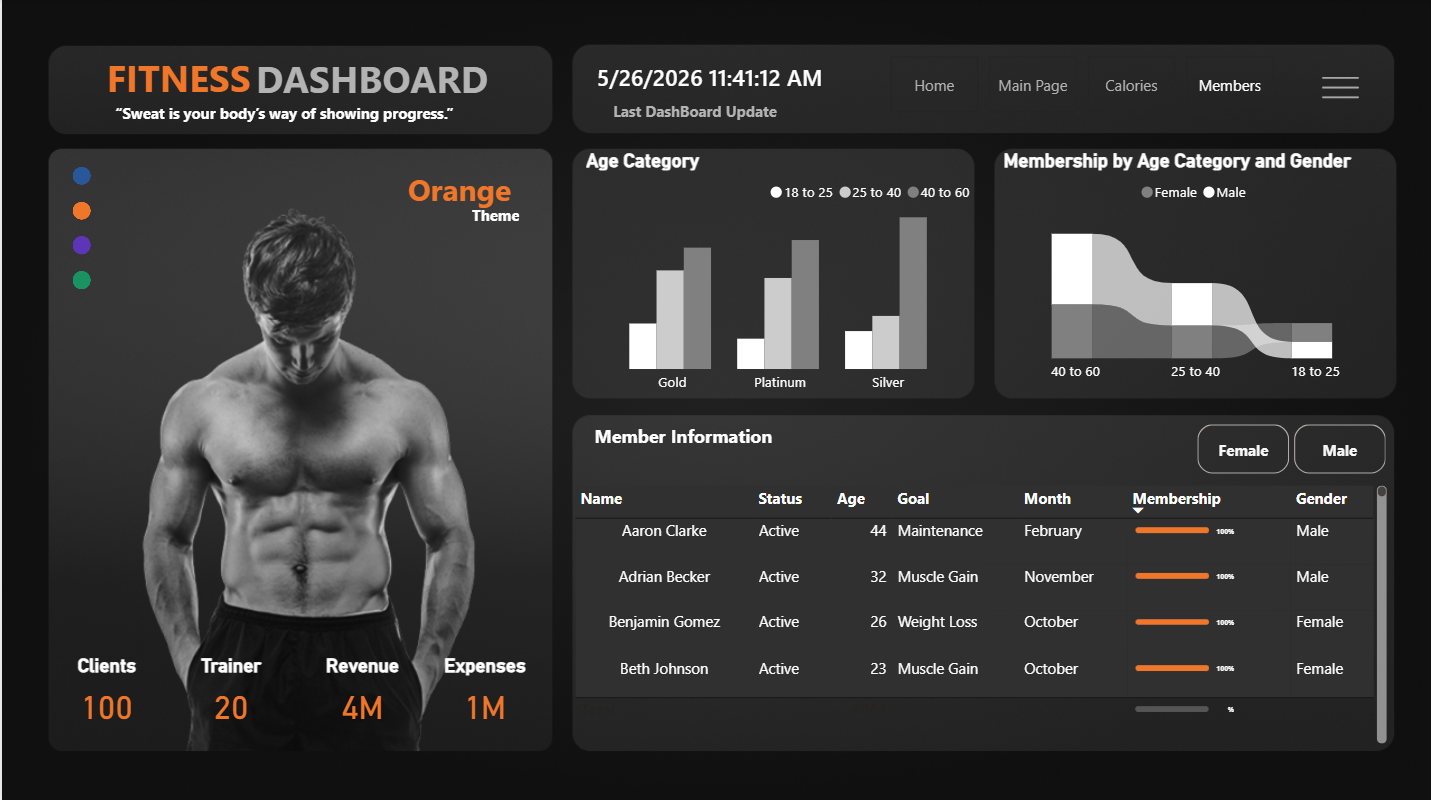

What the dashboard file says about the page in this screenshot:
{"tool":"powerbi","page":{"name":"Members","canvas":[1280,720],"ordinal":3},"visuals":[{"type":"tableEx","fields":{"Values":["Users.UserName","Users.Status","Sum(Users.Age)","Users.Goal","Users.JoinDate.Variation.Date Hierarchy.Month","_Measures.SVG_BarChart1","Users.Gender"]},"box":[506,429.6,736.6,240.3],"z":0},{"type":"shape","box":[81.3,43.7,152.9,43.7],"z":1000},{"type":"shape","box":[214,44.2,232.6,44.2],"z":2000},{"type":"shape","box":[90.6,87.8,323.8,27.4],"z":3000},{"type":"image","box":[1161.6,59.3,70.9,41.9],"z":4000},{"type":"shape","box":[523.3,88.4,190.7,23.3],"z":5000},{"type":"pageNavigator","box":[794.2,51.2,345.3,50],"z":6000},{"type":"shape","box":[517,377.4,183.2,23.1],"z":7000},{"type":"advancedSlicerVisual","fields":{"Values":["Users.Gender"]},"box":[1063,375,179.6,54.6],"z":8000},{"type":"clusteredColumnChart","title":"Age Category","fields":{"Category":["Users.Membership"],"Y":["_Measures.Users_Count"],"Series":["Users.Age Category"]},"box":[517.4,133.7,357,226.7],"z":9000},{"type":"ribbonChart","title":"Membership by Age Category and Gender","fields":{"Category":["Users.Age Category"],"Series":["Users.Gender"],"Y":["CountNonNull(Users.Membership)"]},"box":[889.5,133.5,353.1,217.2],"z":10000},{"type":"card","title":"Clients","fields":{"Values":["_Measures.Users_Count"]},"box":[52.1,584.6,82.3,72.7],"z":11000},{"type":"card","title":"Trainer","fields":{"Values":["Count(Users.Trainer Name)"]},"box":[157.8,584.6,94.7,72.7],"z":12000},{"type":"card","title":"Revenue","fields":{"Values":["_Measures.Revenue"]},"box":[274.4,584.6,94.7,72.7],"z":13000},{"type":"card","title":"Expenses","fields":{"Values":["_Measures.Expenses"]},"box":[384.2,584.6,94.7,72.7],"z":14000},{"type":"advancedSlicerVisual","fields":{"Values":["ColorCodes.Icon"]},"box":[52.2,142,37.6,129.8],"z":15000},{"type":"shape","box":[338.6,145.6,140.8,48.5],"z":16000},{"type":"shape","box":[384.7,178.4,111.6,29.1],"z":17000},{"type":"cardVisual","fields":{"Data":["_Measures.Current Date"]},"box":[502.3,0,291.9,137.2],"z":18000}]}

Visuals, with their boxes in screenshot pixels (x1, y1, x2, y2), scaled from the page's 1280x720 canvas onto the 1431x800 screenshot:
tableEx - Users.UserName x Users.Status: {"x1": 566, "y1": 477, "x2": 1389, "y2": 744}
shape: {"x1": 91, "y1": 49, "x2": 262, "y2": 97}
shape: {"x1": 239, "y1": 49, "x2": 499, "y2": 98}
shape: {"x1": 101, "y1": 98, "x2": 463, "y2": 128}
image: {"x1": 1299, "y1": 66, "x2": 1378, "y2": 112}
shape: {"x1": 585, "y1": 98, "x2": 798, "y2": 124}
pageNavigator: {"x1": 888, "y1": 57, "x2": 1274, "y2": 112}
shape: {"x1": 578, "y1": 419, "x2": 783, "y2": 445}
advancedSlicerVisual - Users.Gender: {"x1": 1188, "y1": 417, "x2": 1389, "y2": 477}
"Age Category" clusteredColumnChart: {"x1": 578, "y1": 149, "x2": 978, "y2": 400}
"Membership by Age Category and Gender" ribbonChart: {"x1": 994, "y1": 148, "x2": 1389, "y2": 390}
"Clients" card: {"x1": 58, "y1": 650, "x2": 150, "y2": 730}
"Trainer" card: {"x1": 176, "y1": 650, "x2": 282, "y2": 730}
"Revenue" card: {"x1": 307, "y1": 650, "x2": 413, "y2": 730}
"Expenses" card: {"x1": 430, "y1": 650, "x2": 535, "y2": 730}
advancedSlicerVisual - ColorCodes.Icon: {"x1": 58, "y1": 158, "x2": 100, "y2": 302}
shape: {"x1": 379, "y1": 162, "x2": 536, "y2": 216}
shape: {"x1": 430, "y1": 198, "x2": 555, "y2": 231}
cardVisual - _Measures.Current Date: {"x1": 562, "y1": 0, "x2": 888, "y2": 152}
